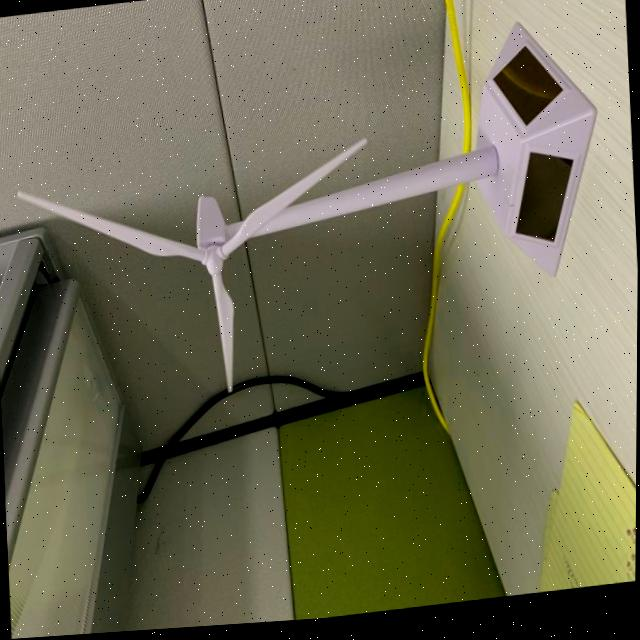solid-blade: (220, 143, 367, 262), (18, 191, 205, 264), (213, 276, 234, 393)
